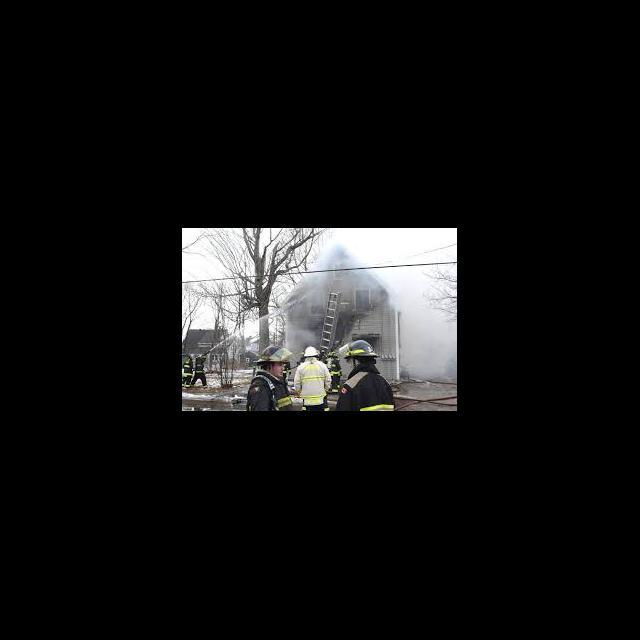Smoke: (368, 268, 455, 323), (402, 324, 456, 370)
